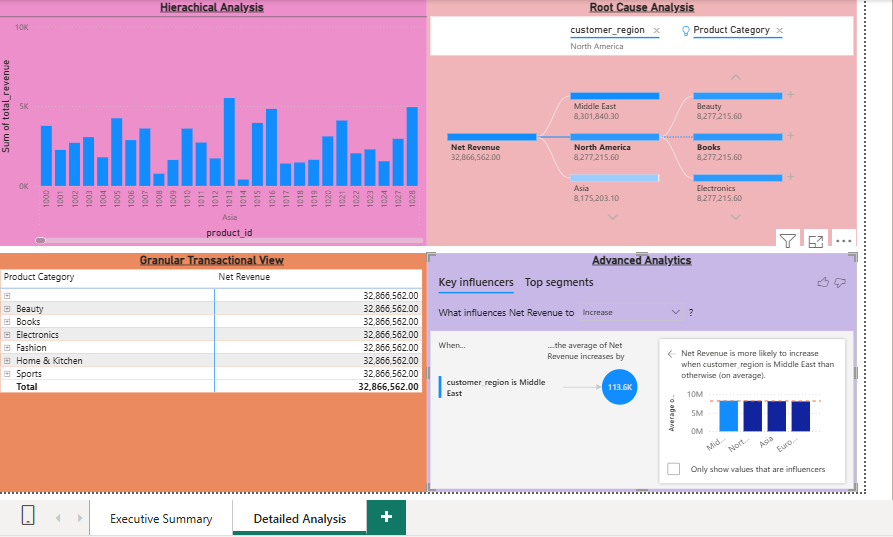

What the dashboard file says about the page in this screenshot:
{"tool":"powerbi","page":{"name":"Detailed Analysis","canvas":[1280,720],"ordinal":1},"visuals":[{"type":"columnChart","title":"Hierachical Analysis","fields":{"Category":["Dim_Region.Sales Drill-Down.customer_region","Fact_Sales.product_id"],"Y":["Sum(Fact_Sales.total_revenue)"]},"box":[10.2,0,629.3,360],"z":0},{"type":"pivotTable","title":"Granular Transactional View","fields":{"Rows":["Dim_Category.Product Category","Fact_Sales.product_id"],"Values":["Fact_Sales.Net Revenue"]},"box":[10,370,629,350],"z":1},{"type":"decompositionTreeVisual","title":"Root Cause Analysis","fields":{"Analyze":["Fact_Sales.Net Revenue"],"ExplainBy":["Dim_Region.customer_region","Dim_Category.Product Category","Dim_Payment.payment_method"]},"box":[639.5,0,629.3,360],"z":2},{"type":"keyDriversVisual","title":"Advanced Analytics","fields":{"Target":["Fact_Sales.Net Revenue"],"ExplainBy":["Dim_Region.customer_region","Dim_Payment.payment_method","Dim_Category.Product Category"]},"box":[640,370,629,350],"z":3}]}

Visuals, with their boxes on the page's 1280x720 design canvas (x1, y1, x2, y2). These are canvas units, not pixel positions in the 893x537 screenshot, which may show the page scaled, cropped or inside an application window:
"Hierachical Analysis" columnChart: 10/0/640/360
"Granular Transactional View" pivotTable: 10/370/639/720
"Root Cause Analysis" decompositionTreeVisual: 640/0/1269/360
"Advanced Analytics" keyDriversVisual: 640/370/1269/720
